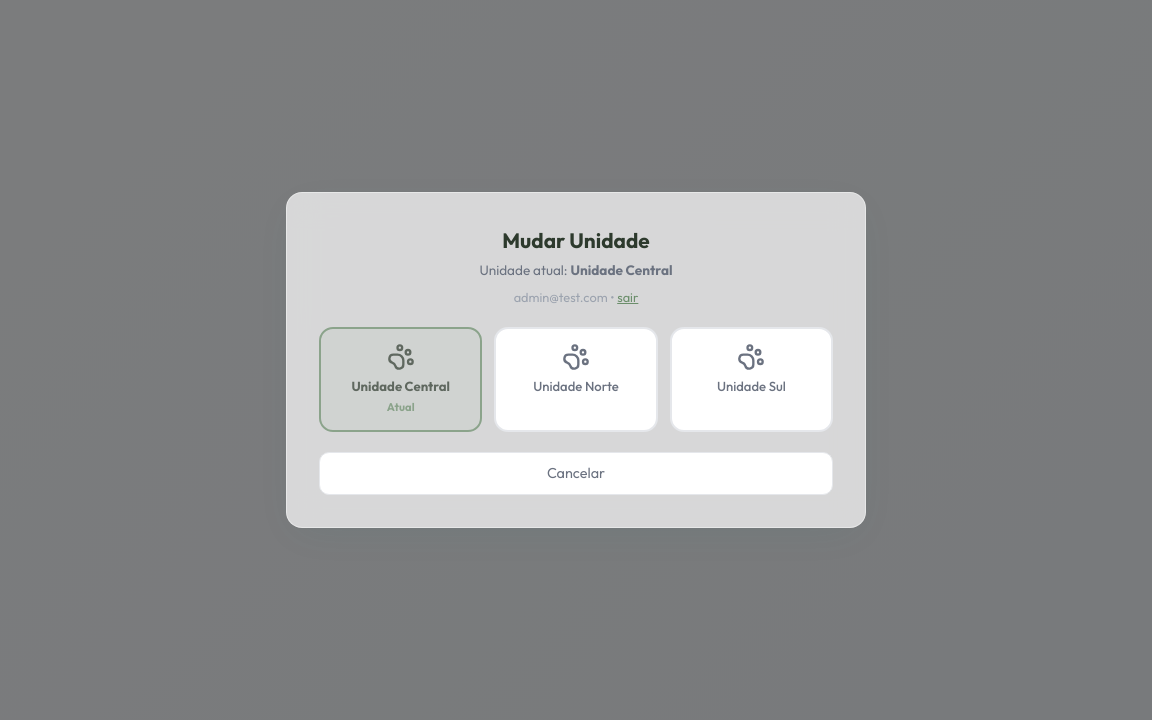
ChangeUnidadeModal › should show confirm screen after selecting unidade
Click the button "Unidade Norte": (576, 380) [494, 327, 658, 432]
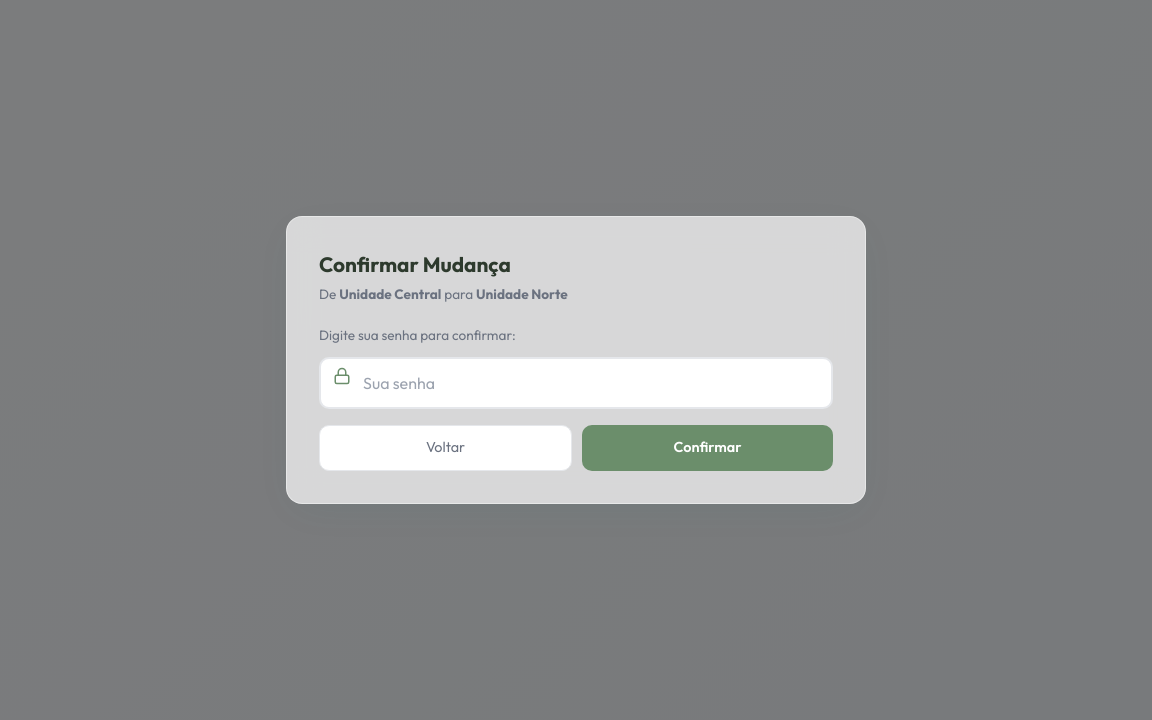
Check: the heading "Confirmar Mudança" is shown, box [319, 251, 511, 277]
